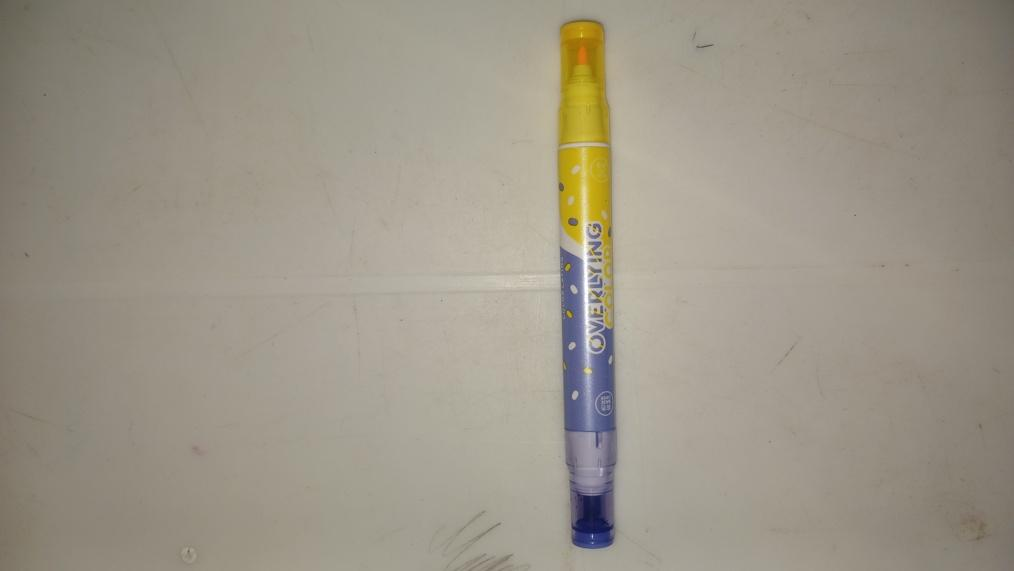Highlighter: (559, 19, 616, 553)
